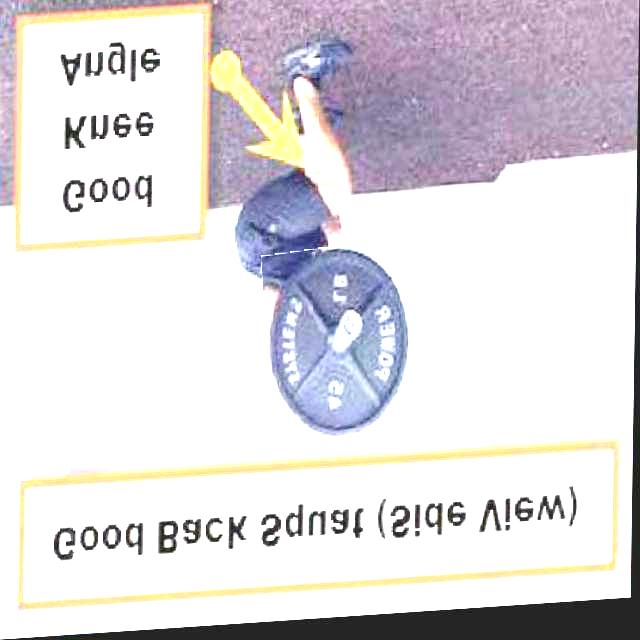barbell: (265, 243, 422, 455)
